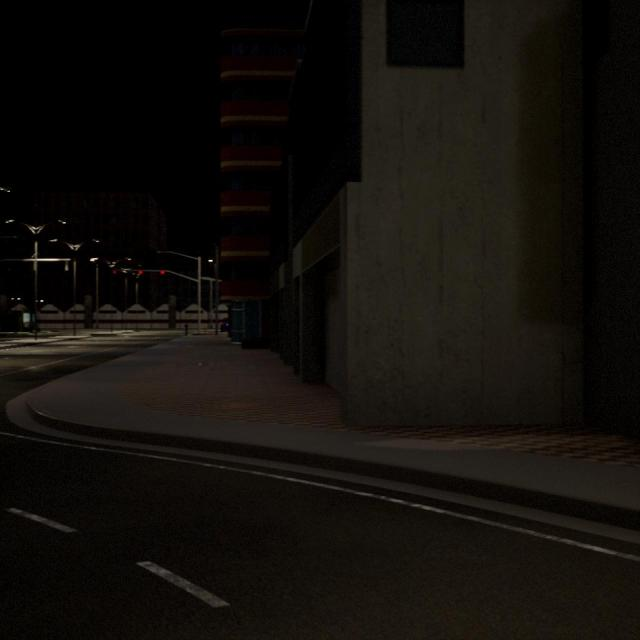Pedestrian: (184, 321, 188, 337)
Vehicle: (220, 321, 229, 332)
traffic_light: (138, 270, 143, 274), (160, 270, 164, 274), (113, 270, 116, 274)
